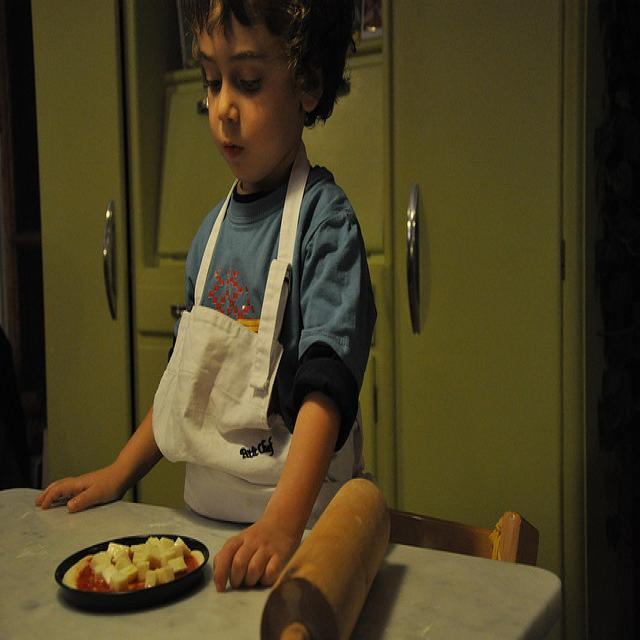chair: (388, 506, 538, 566)
